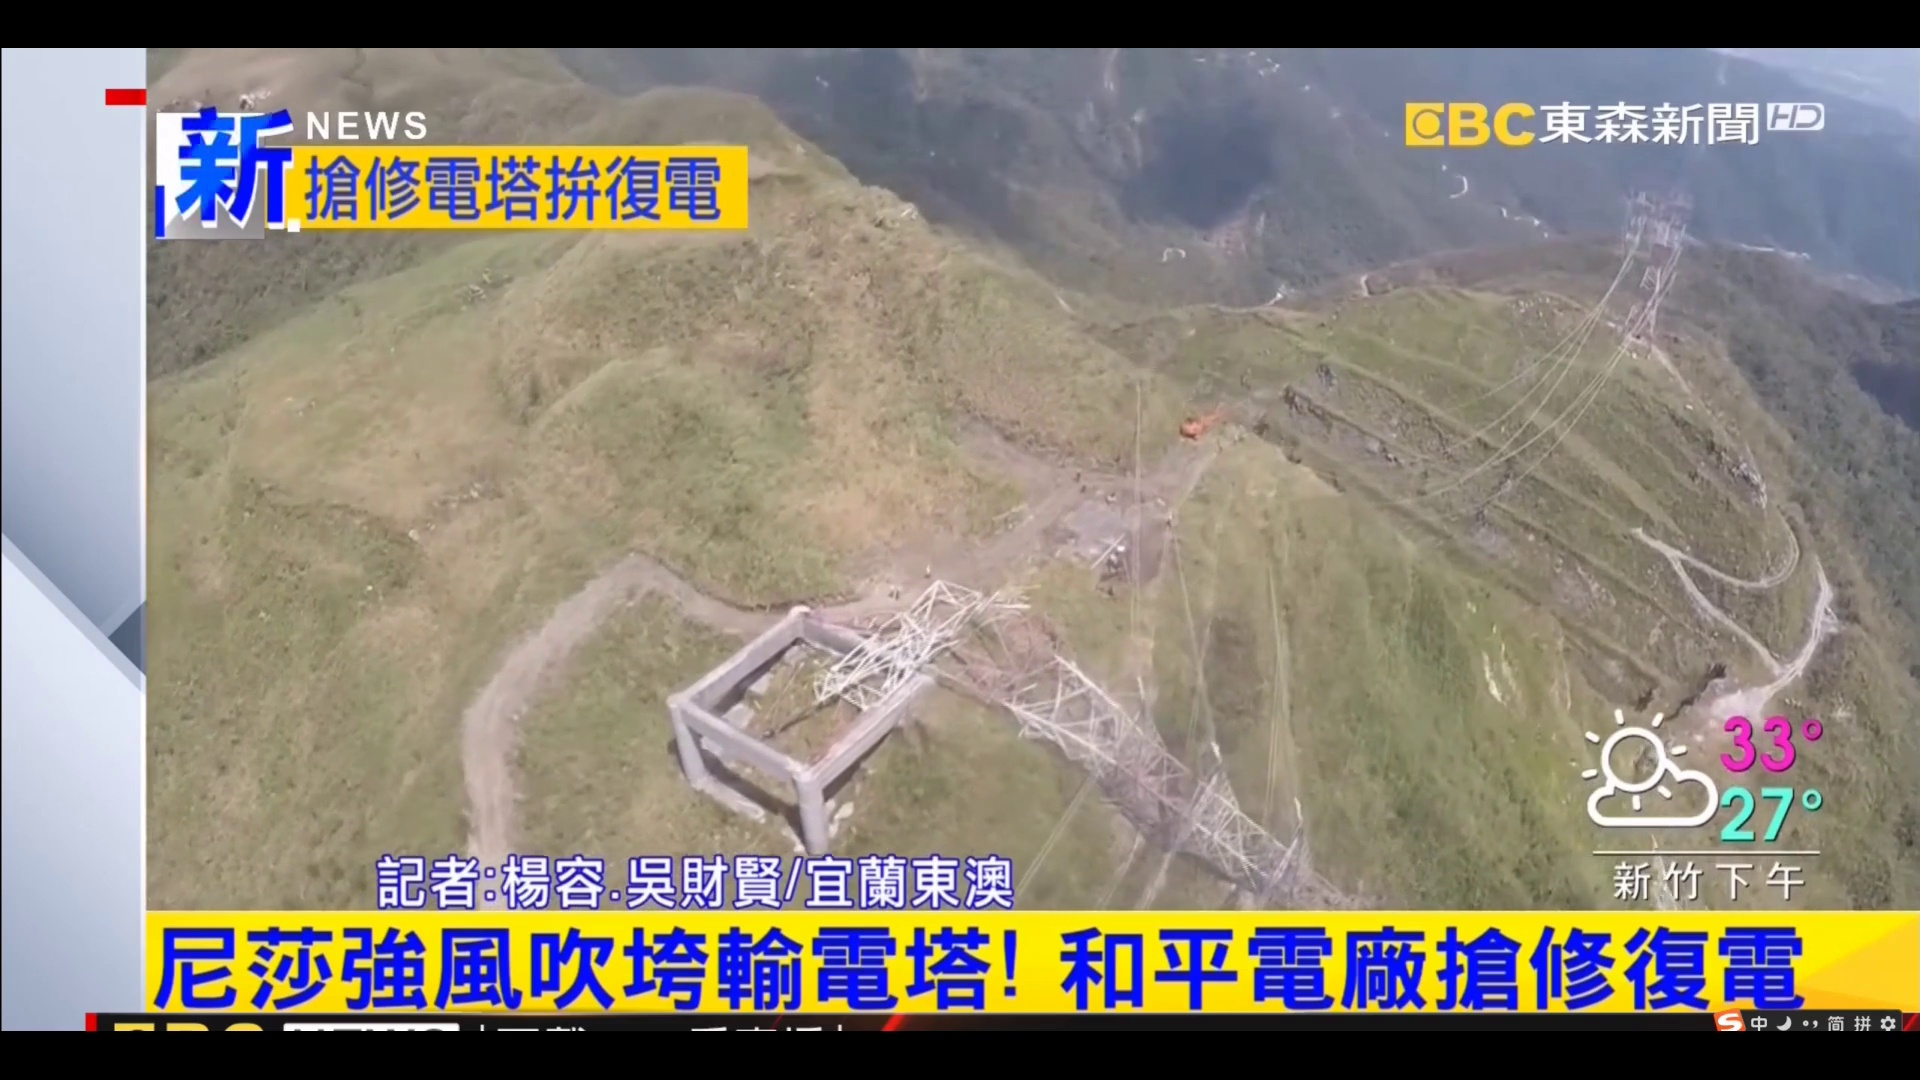tower_down: (884, 587, 1375, 887)
